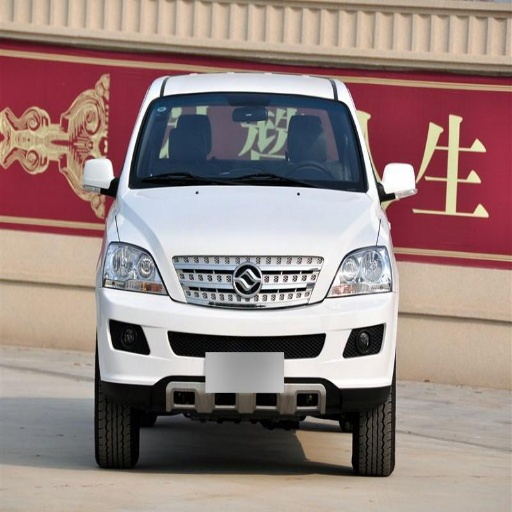back_right_light: (97, 257, 395, 428)
front_bumper: (129, 94, 369, 188)
front_left_door: (329, 244, 395, 297)
front_right_door: (101, 240, 165, 293)
front_right_light: (120, 188, 377, 260), (172, 259, 235, 269)
hood: (380, 164, 416, 201)
left_mirror: (82, 158, 117, 195)
trunk: (352, 389, 396, 476), (97, 383, 138, 468)
